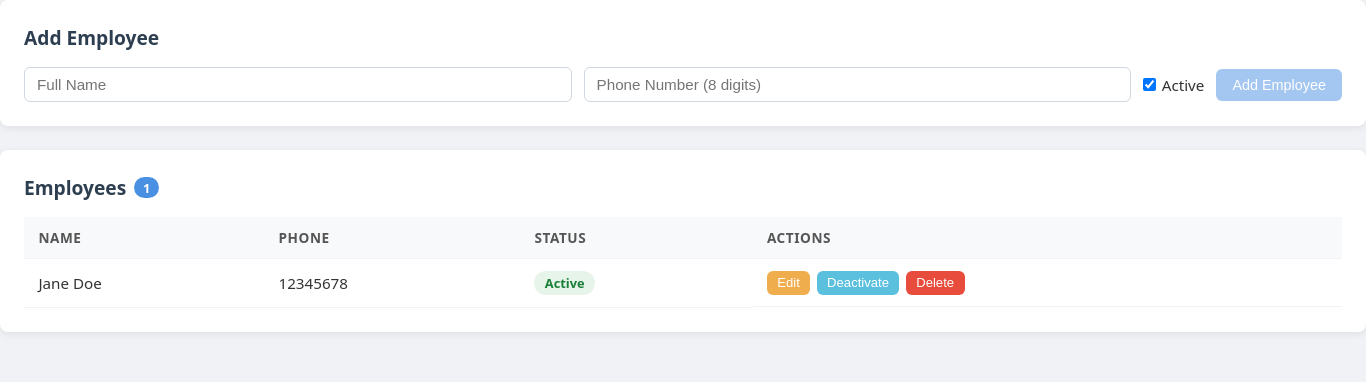
Scenario: deleteEmployee › shows fetchError when DELETE fails
Click the button with class "btn-danger": [935, 283] box [906,271,964,295]
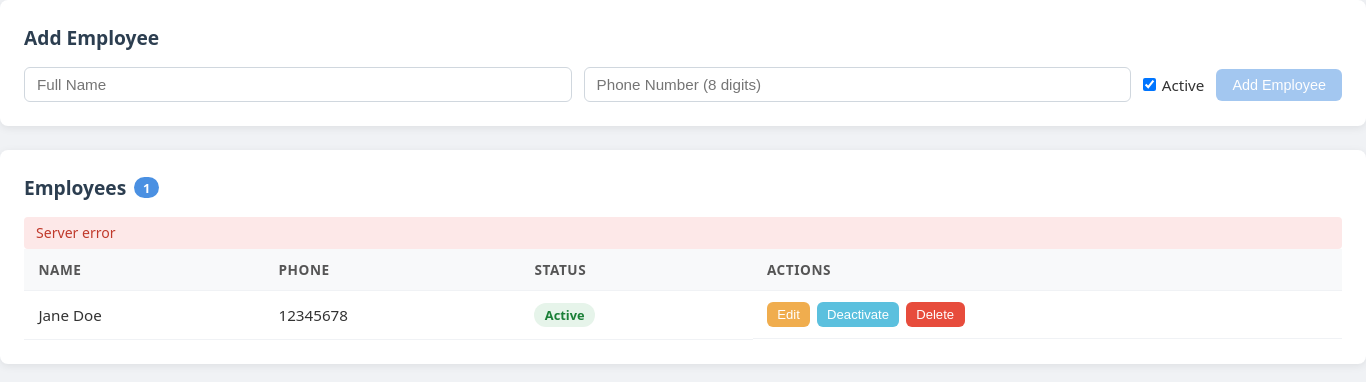
Expected: the text "Server error" is shown, [24,217,1342,249]
